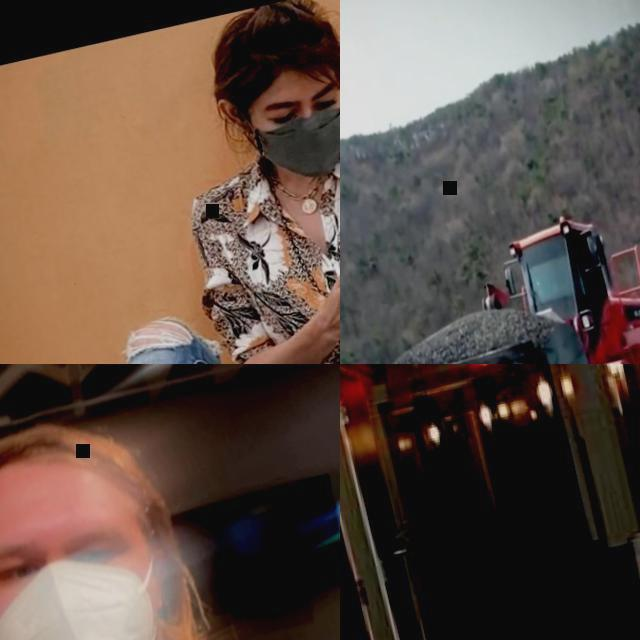machinery: (340, 187, 640, 364)
mask: (0, 543, 175, 640), (255, 105, 340, 184)
no_helmet: (0, 409, 138, 533), (206, 0, 340, 103)
no_vest: (214, 130, 340, 364)
person: (0, 0, 340, 364), (0, 365, 340, 640)
